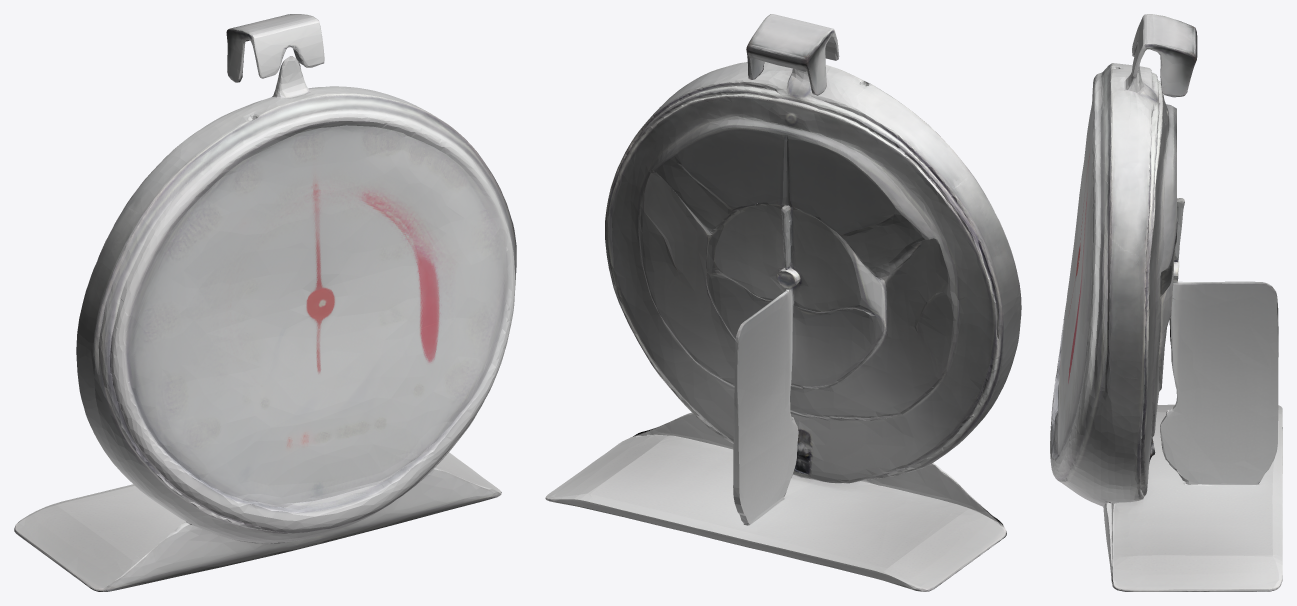
The model's file is oventhermometer.glb.
3 views of the same model, side by side, from view 1: azimuth 30°, elevation 25°; view 2: azimuth 150°, elevation 25°; view 3: azimuth 270°, elevation 25° (orthographic). The views are drawn at different scales.
Visible parts, largest first — view 1: world; view 2: world; view 3: world.
Part boxes in pixels (x1,y1,x2,y2): world: (14,14,516,591); world: (545,14,1021,591); world: (1050,14,1282,591).
Bounding box in the file's own units: 0.8778 × 1 × 0.4479.
1 material, 1 textured.
